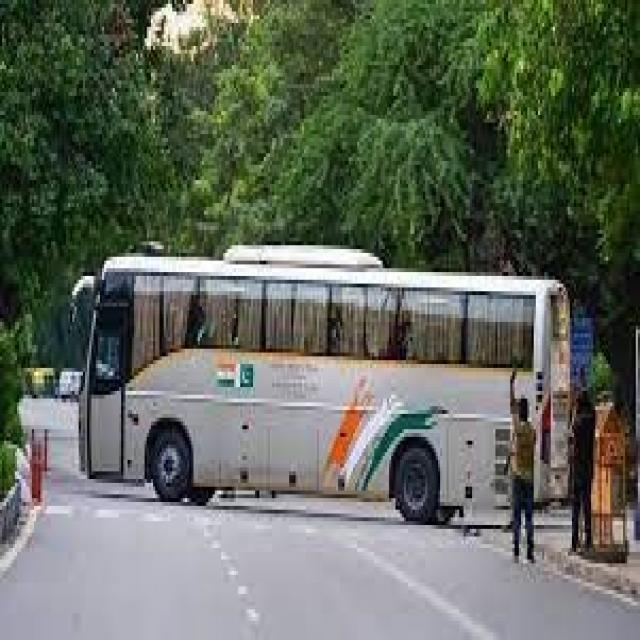bus: (65, 248, 592, 530)
